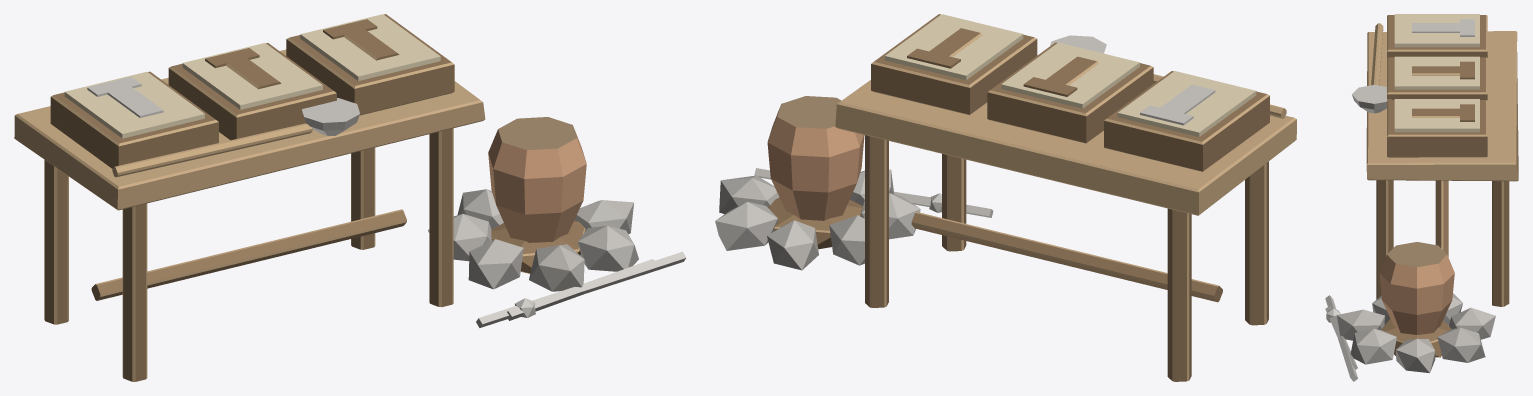
File: w3d_casting_bench_idle.glb
3 views of the same model, side by side, from view 1: azimuth 30°, elevation 25°; view 2: azimuth 150°, elevation 25°; view 3: azimuth 270°, elevation 25° (orthographic). The views are drawn at different scales.
Parts seen in each view (by area): view 1: w3d_casting_bench_idle; view 2: w3d_casting_bench_idle; view 3: w3d_casting_bench_idle.
Part boxes in pixels (x1,y1,x2,y2): w3d_casting_bench_idle: [14, 14, 686, 381]; w3d_casting_bench_idle: [715, 14, 1296, 381]; w3d_casting_bench_idle: [1325, 14, 1518, 381].
Bounding box in the file's own units: 1.9 × 0.782 × 0.7701.
